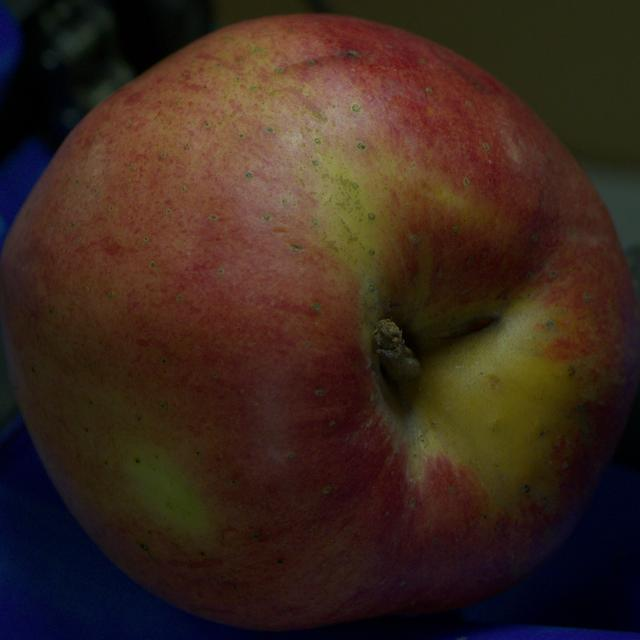apple: (0, 14, 639, 629)
scratch: (436, 312, 498, 339)
